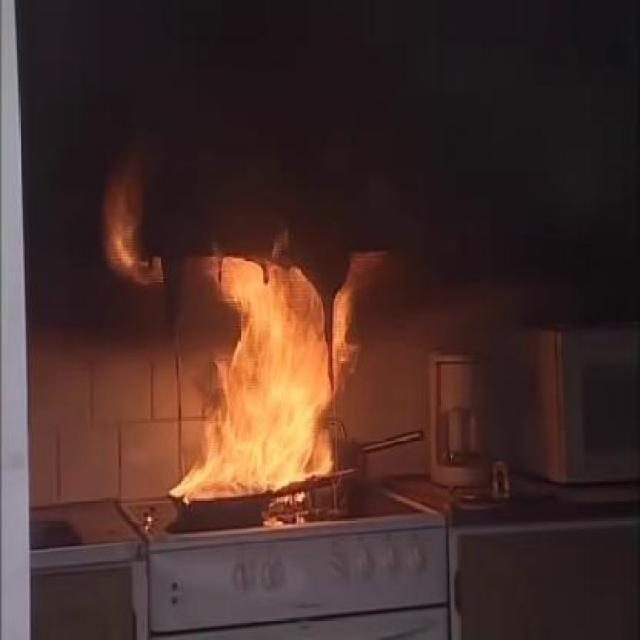fire: (183, 236, 354, 482)
